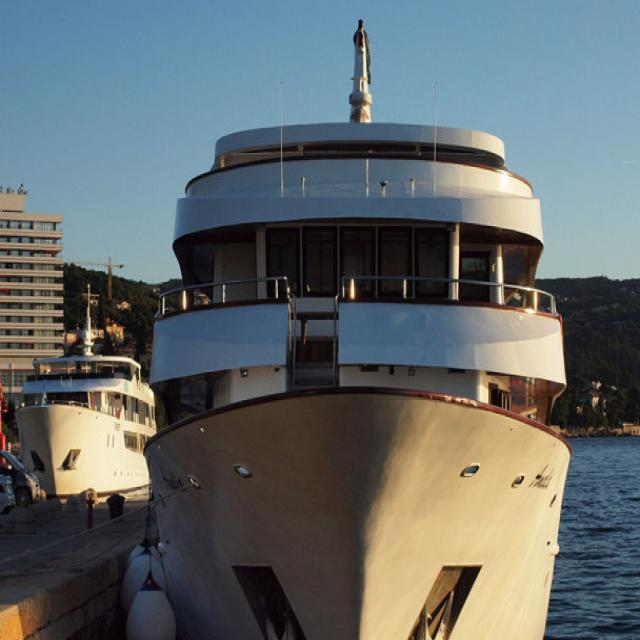cruises: (142, 4, 562, 640)
